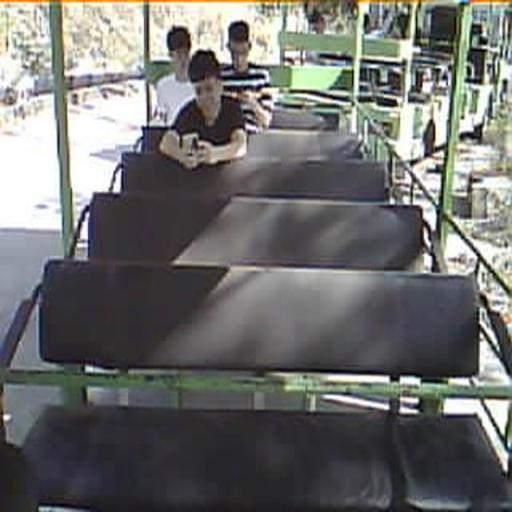persona: (158, 49, 246, 169), (216, 21, 274, 133), (148, 25, 198, 128)
